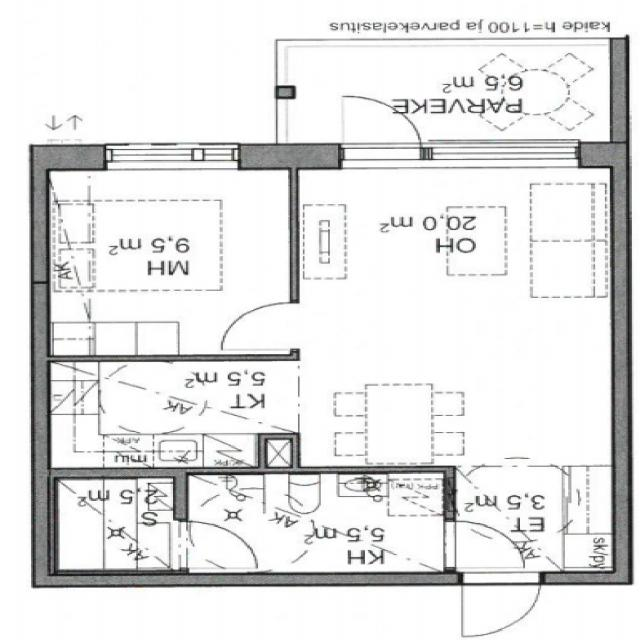door: (341, 90, 422, 169), (463, 572, 541, 638), (173, 520, 259, 569), (445, 522, 524, 568), (221, 302, 300, 348)
